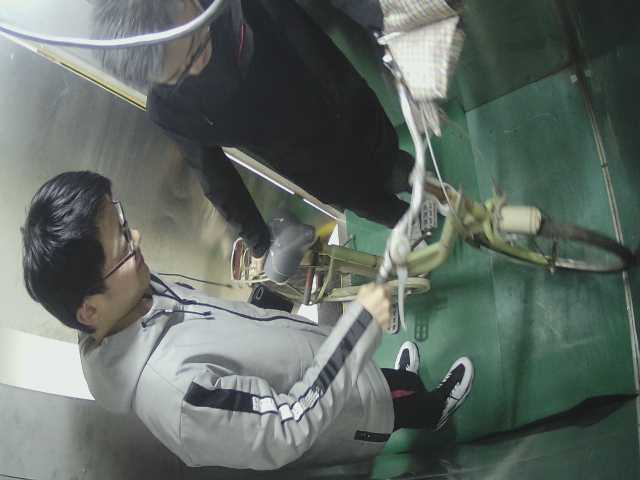bicycle: (202, 86, 635, 332)
person: (20, 176, 472, 467), (87, 1, 465, 263)
